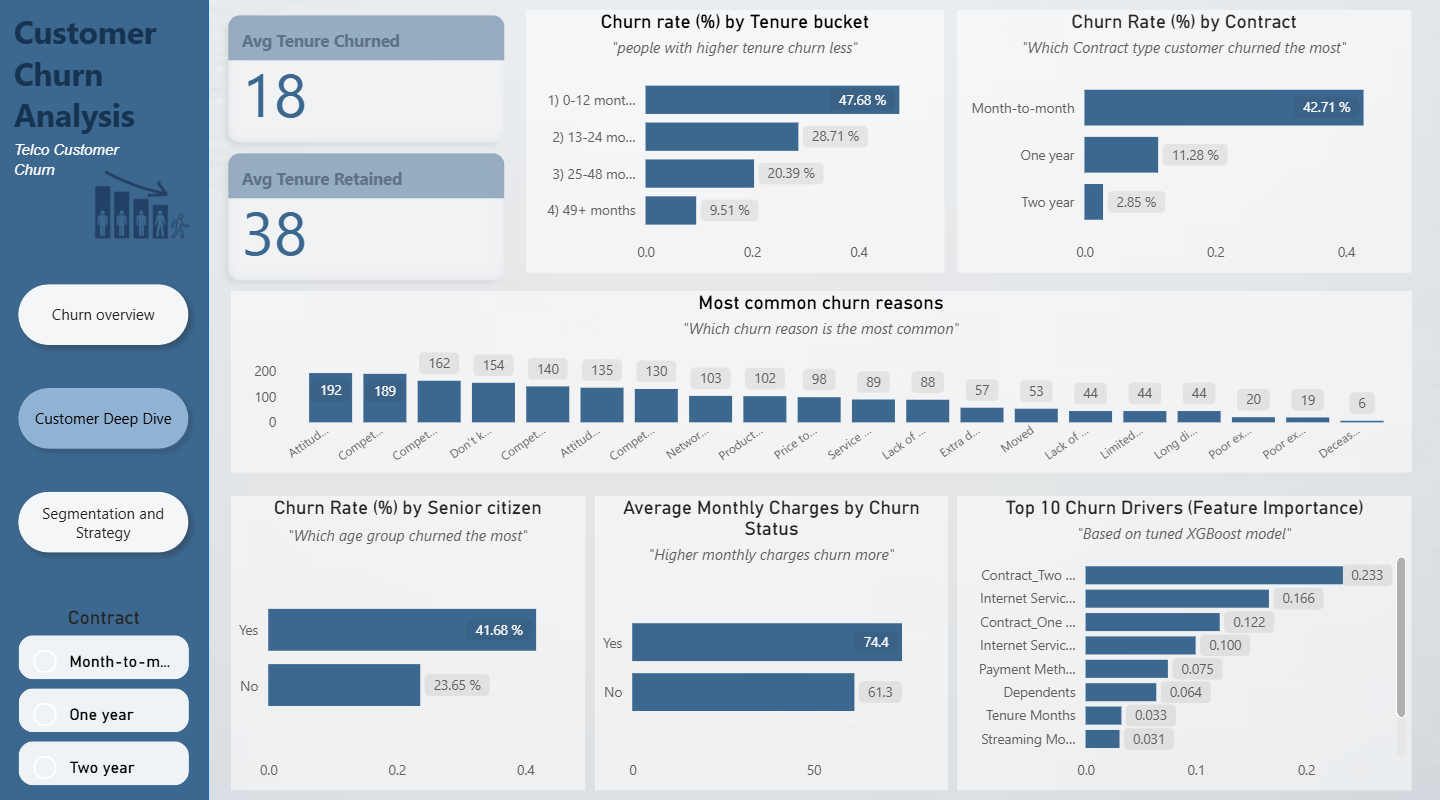

The dashboard page shown, as its layout file describes it:
{"tool":"powerbi","page":{"name":"Customer Deep Dive","canvas":[1280,720],"ordinal":1},"visuals":[{"type":"shape","box":[0,0,187,720.1],"z":0},{"type":"cardVisual","fields":{"Data":["telco_churn_final.Avg Tenure Churned"]},"box":[187,0,279,147],"z":1000},{"type":"pageNavigator","box":[9.3,246.2,169.6,256.7],"z":2000},{"type":"cardVisual","fields":{"Data":["telco_churn_final.Avg Tenure Retained"]},"box":[187,122,279.9,147.5],"z":3000},{"type":"clusteredBarChart","title":"Churn Rate (%)  by Contract","fields":{"Category":["telco_churn_final.Contract"],"Y":["telco_churn_final.Churn Rate %"]},"box":[850.2,12.8,403,233.5],"z":4000},{"type":"clusteredBarChart","title":"Churn rate (%) by Tenure bucket","fields":{"Y":["telco_churn_final.Churn Rate %"],"Category":["telco_churn_final.Tenure Bucket"]},"box":[468.1,12.8,370.5,233.5],"z":5000},{"type":"barChart","title":"Churn Rate (%)  by Senior citizen","fields":{"Category":["telco_churn_final.Senior Citizen"],"Y":["telco_churn_final.Churn Rate %"]},"box":[206.8,443.7,313.6,261.3],"z":6000},{"type":"textbox","title":"Customer Churn Analysis","box":[9.3,12.8,169.6,120.8],"z":7000},{"type":"image","box":[48.8,105.7,158,155.6],"z":8000},{"type":"textbox","box":[9.3,122,109.2,61.6],"z":9000},{"type":"clusteredColumnChart","title":"Most common churn reasons","fields":{"Category":["telco_churn_final.Churn Reason"],"Y":["CountNonNull(telco_churn_final.CustomerID)"]},"box":[206.8,261.3,1046.5,161.5],"z":10000},{"type":"advancedSlicerVisual","fields":{"Values":["telco_churn_final.Contract"]},"box":[13.3,540.8,161.2,164.3],"z":11000},{"type":"barChart","title":"Average Monthly Charges by Churn Status","fields":{"Category":["telco_churn_final.Churn Label"],"Y":["telco_churn_final.Avg Monthly Charges"]},"box":[529.7,443.7,313,261.3],"z":12000},{"type":"barChart","title":"Top 10 Churn Drivers (Feature Importance)","fields":{"Category":["feature_importance (2).Feature"],"Y":["Sum(feature_importance (2).Importance)"]},"box":[850.2,443.7,403,261.3],"z":13000}]}

Visuals, with their boxes in screenshot pixels (x1, y1, x2, y2), scaled from the page's 1280x720 canvas onto the 1440x800 screenshot:
shape: crop(0, 0, 210, 799)
cardVisual - telco_churn_final.Avg Tenure Churned: crop(210, 0, 524, 163)
pageNavigator: crop(10, 274, 201, 559)
cardVisual - telco_churn_final.Avg Tenure Retained: crop(210, 136, 525, 299)
"Churn Rate (%)  by Contract" clusteredBarChart: crop(956, 14, 1410, 274)
"Churn rate (%) by Tenure bucket" clusteredBarChart: crop(527, 14, 943, 274)
"Churn Rate (%)  by Senior citizen" barChart: crop(233, 493, 585, 783)
"Customer Churn Analysis" textbox: crop(10, 14, 201, 148)
image: crop(55, 117, 233, 290)
textbox: crop(10, 136, 133, 204)
"Most common churn reasons" clusteredColumnChart: crop(233, 290, 1410, 470)
advancedSlicerVisual - telco_churn_final.Contract: crop(15, 601, 196, 783)
"Average Monthly Charges by Churn Status" barChart: crop(596, 493, 948, 783)
"Top 10 Churn Drivers (Feature Importance)" barChart: crop(956, 493, 1410, 783)
